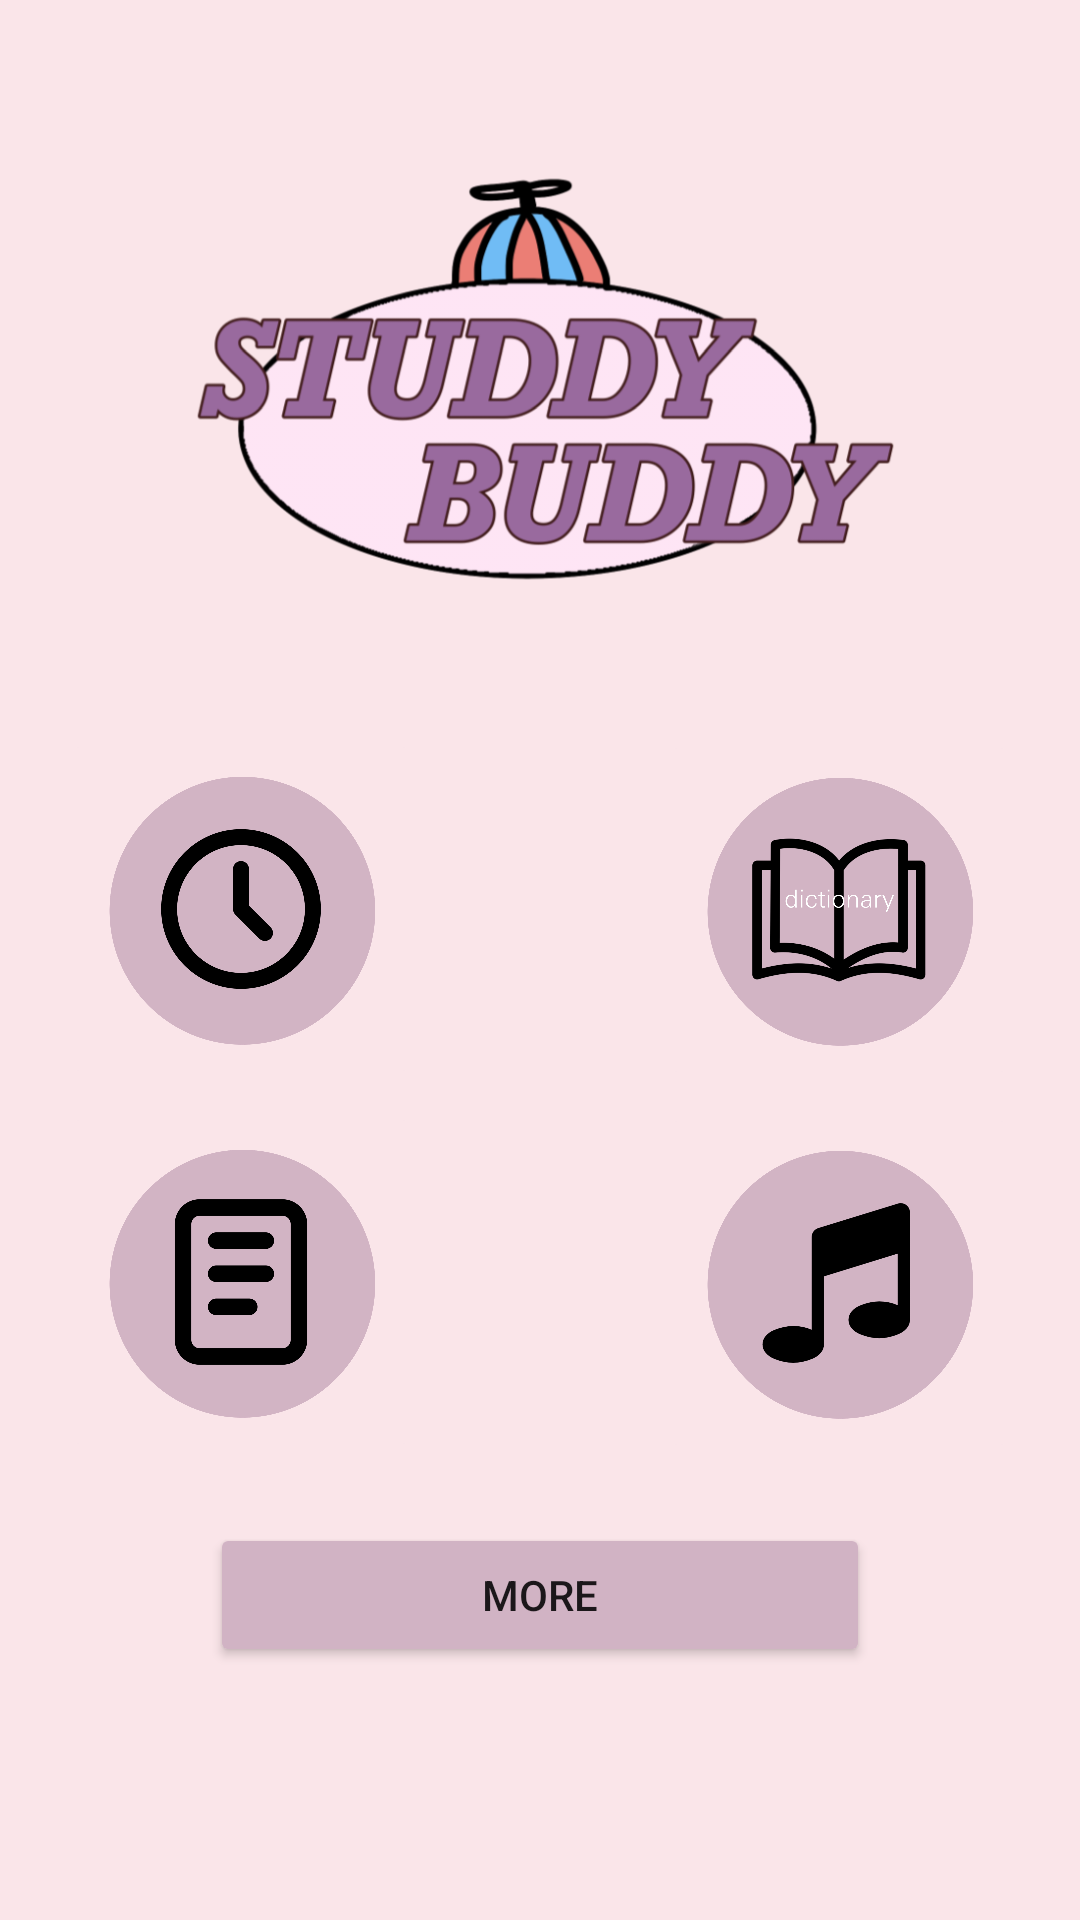

Point at icon controls on the screen. Image size 1080 x 1920, points as [x,y].
clock: [242,911]
music: [840,1285]
notes: [242,1284]
